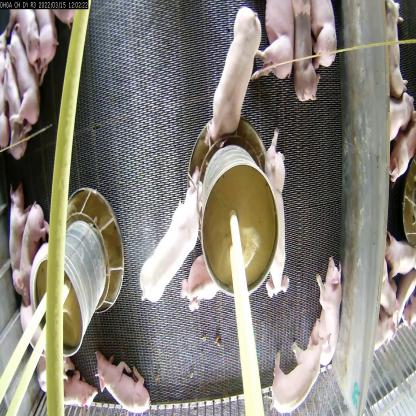Pig: (141, 174, 207, 306), (206, 9, 259, 139), (252, 134, 289, 295), (269, 326, 321, 416), (92, 342, 150, 415), (306, 252, 339, 376), (283, 0, 318, 112), (15, 215, 48, 307), (44, 360, 98, 416), (0, 178, 27, 276), (7, 30, 33, 126), (23, 2, 61, 66), (260, 0, 290, 79)
